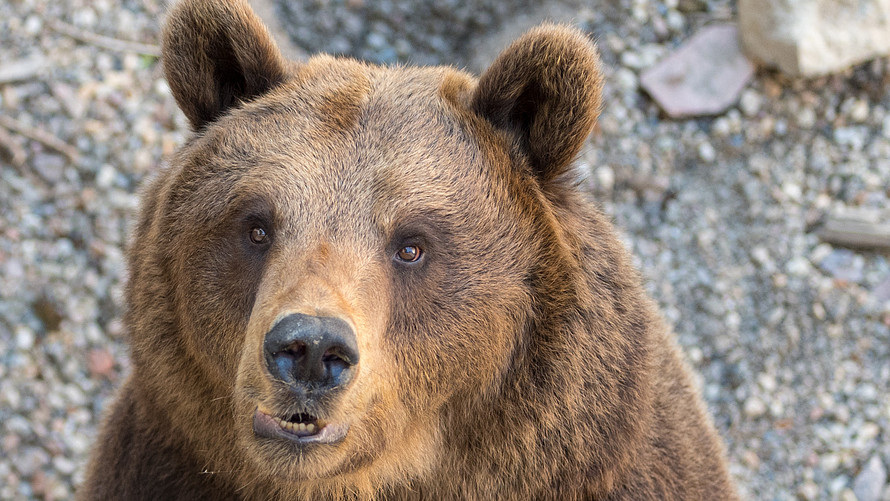bear: (146, 1, 607, 475)
